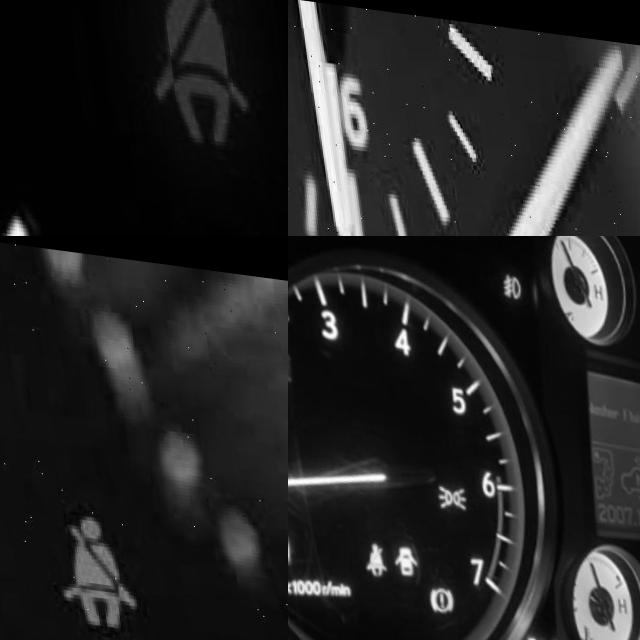Doors: (377, 535, 409, 581)
Seat Belt: (131, 0, 242, 139), (43, 504, 133, 623)
